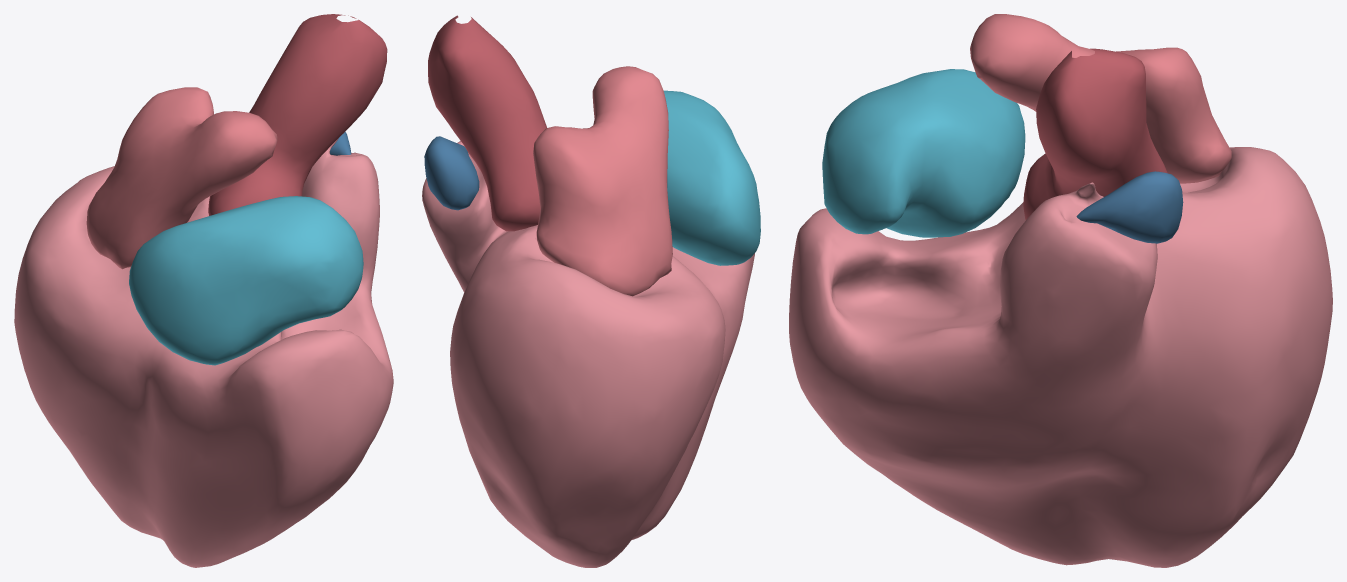
The model's file is frame_17.glb.
3 views of the same model, side by side, from view 1: azimuth 30°, elevation 25°; view 2: azimuth 150°, elevation 25°; view 3: azimuth 270°, elevation 25° (orthographic). The views are drawn at different scales.
Parts seen in each view (by area): view 1: Renderer Node; view 2: Renderer Node; view 3: Renderer Node.
Part boxes in pixels (x1,y1,x2,y2): Renderer Node: (14, 14, 393, 567); Renderer Node: (422, 15, 760, 567); Renderer Node: (789, 14, 1332, 567).
Bounding box in the file's own units: 107 × 163 × 132.
